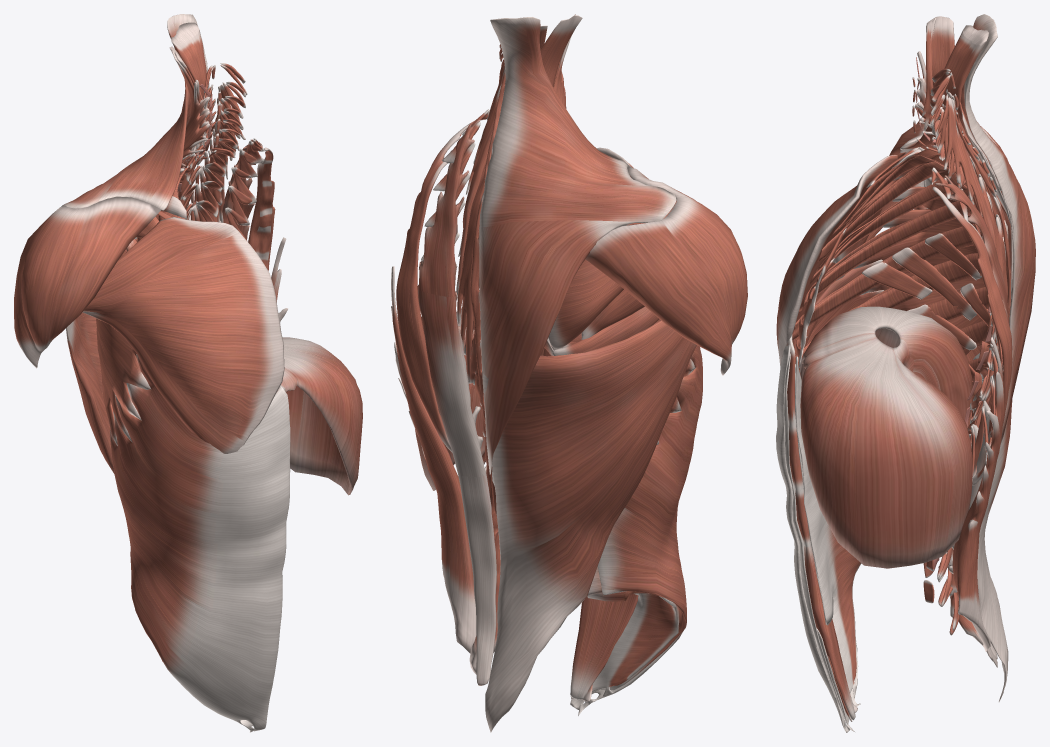
File: aligned-muscles-thorax-abdomen-muscular-01.glb
3 renders of one model, left to right at view 1: azimuth 30°, elevation 25°; view 2: azimuth 150°, elevation 25°; view 3: azimuth 270°, elevation 25°, orthographic. The views are drawn at different scales.
Parts seen in each view (by area): view 1: O3D_fd08e9a33e7e65, O3D_cc9748e8ec2c82, O3D_98903f44c3eb91, O3D_d40ef8ed2b10e1, O3D_be14571bca5972, O3D_ea540924b30d16, O3D_7c20bb8bac9c80, O3D_5fe7a0d06fe3f9, O3D_e2bd8332721822, O3D_65dadc42c8e304, O3D_7834111ecd626a, O3D_c7b9f5dc40f4cb (+4 smaller); view 2: O3D_7c20bb8bac9c80, O3D_be14571bca5972, O3D_98903f44c3eb91, O3D_8fd366deb726e3, O3D_fd08e9a33e7e65, O3D_360041b6610976, O3D_5fe7a0d06fe3f9, O3D_cd8c518cbcd500, O3D_b868f1958c25e5, O3D_27dae8ce631018, O3D_a5c5f4ab2955ee, O3D_64a66b9b9b7fd5 (+8 smaller); view 3: O3D_d40ef8ed2b10e1, O3D_a1f134cc150f08, O3D_be14571bca5972, O3D_cd8c518cbcd500, O3D_cc9748e8ec2c82, O3D_4b445511979b42, O3D_360041b6610976, O3D_fd08e9a33e7e65, O3D_b868f1958c25e5, O3D_ea540924b30d16, O3D_7c20bb8bac9c80, O3D_5fe7a0d06fe3f9 (+23 smaller).
Part boxes in pixels (x1=…): O3D_fd08e9a33e7e65: x1=110, y1=354, x2=290, y2=732; O3D_cc9748e8ec2c82: x1=82, y1=217, x2=284, y2=453; O3D_98903f44c3eb91: x1=14, y1=196, x2=161, y2=368; O3D_d40ef8ed2b10e1: x1=281, y1=337, x2=362, y2=495; O3D_be14571bca5972: x1=61, y1=14, x2=209, y2=210; O3D_ea540924b30d16: x1=96, y1=196, x2=186, y2=445; O3D_7c20bb8bac9c80: x1=66, y1=312, x2=114, y2=473; O3D_5fe7a0d06fe3f9: x1=180, y1=147, x2=275, y2=270; O3D_e2bd8332721822: x1=182, y1=63, x2=246, y2=217; O3D_65dadc42c8e304: x1=180, y1=65, x2=247, y2=221; O3D_7834111ecd626a: x1=171, y1=22, x2=207, y2=166; O3D_c7b9f5dc40f4cb: x1=182, y1=138, x2=264, y2=241; O3D_7c20bb8bac9c80: x1=483, y1=320, x2=696, y2=732; O3D_be14571bca5972: x1=479, y1=17, x2=676, y2=474; O3D_98903f44c3eb91: x1=585, y1=164, x2=747, y2=375; O3D_8fd366deb726e3: x1=418, y1=119, x2=544, y2=685; O3D_fd08e9a33e7e65: x1=570, y1=345, x2=702, y2=715; O3D_360041b6610976: x1=391, y1=266, x2=476, y2=653; O3D_5fe7a0d06fe3f9: x1=396, y1=123, x2=551, y2=452; O3D_cd8c518cbcd500: x1=575, y1=591, x2=679, y2=699; O3D_b868f1958c25e5: x1=570, y1=594, x2=638, y2=699; O3D_27dae8ce631018: x1=548, y1=259, x2=623, y2=348; O3D_a5c5f4ab2955ee: x1=457, y1=164, x2=485, y2=383; O3D_64a66b9b9b7fd5: x1=552, y1=307, x2=659, y2=355; O3D_d40ef8ed2b10e1: x1=800, y1=306, x2=972, y2=568; O3D_a1f134cc150f08: x1=806, y1=155, x2=991, y2=401; O3D_be14571bca5972: x1=900, y1=14, x2=1035, y2=443; O3D_cd8c518cbcd500: x1=795, y1=356, x2=861, y2=724; O3D_cc9748e8ec2c82: x1=776, y1=154, x2=924, y2=366; O3D_4b445511979b42: x1=862, y1=233, x2=991, y2=381; O3D_360041b6610976: x1=952, y1=337, x2=1004, y2=651; O3D_fd08e9a33e7e65: x1=776, y1=259, x2=883, y2=732; O3D_b868f1958c25e5: x1=786, y1=334, x2=855, y2=720; O3D_ea540924b30d16: x1=853, y1=152, x2=988, y2=354; O3D_7c20bb8bac9c80: x1=923, y1=180, x2=1012, y2=701; O3D_5fe7a0d06fe3f9: x1=932, y1=145, x2=1012, y2=485.
Bounding box in the file's own units: 0.3526 × 0.7472 × 0.2485.
Materials: 7 (7 with a texture image).
